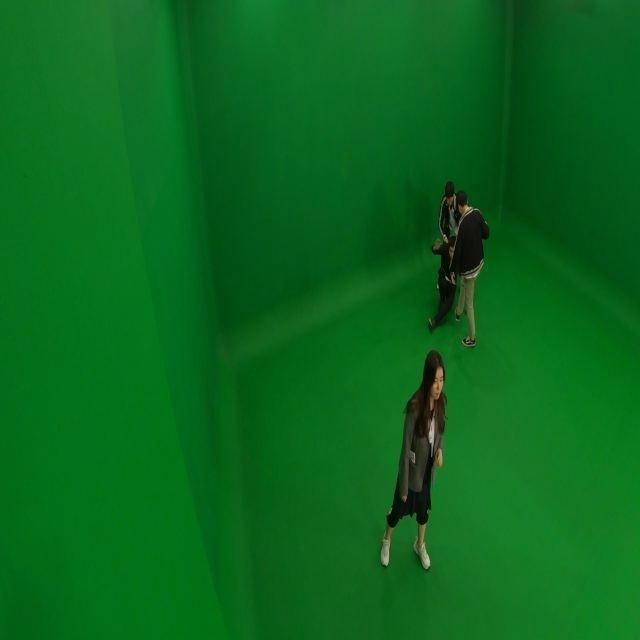fight: (425, 177, 491, 346)
non-fight: (379, 347, 449, 571)
